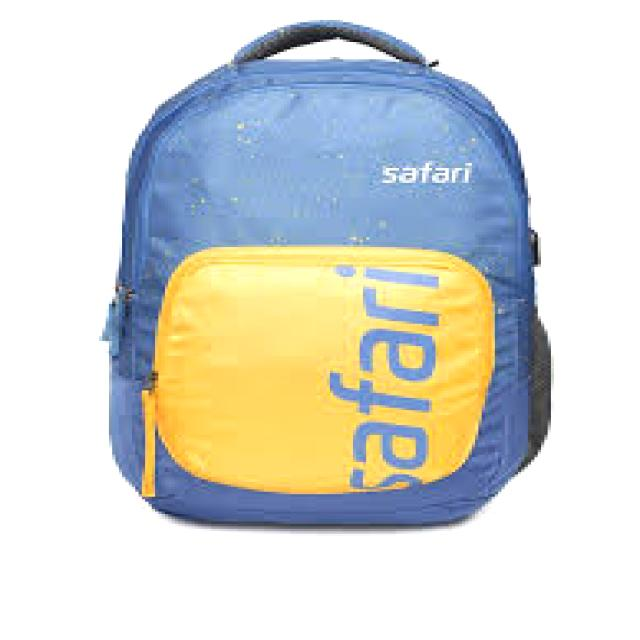backpack: (100, 19, 552, 528)
